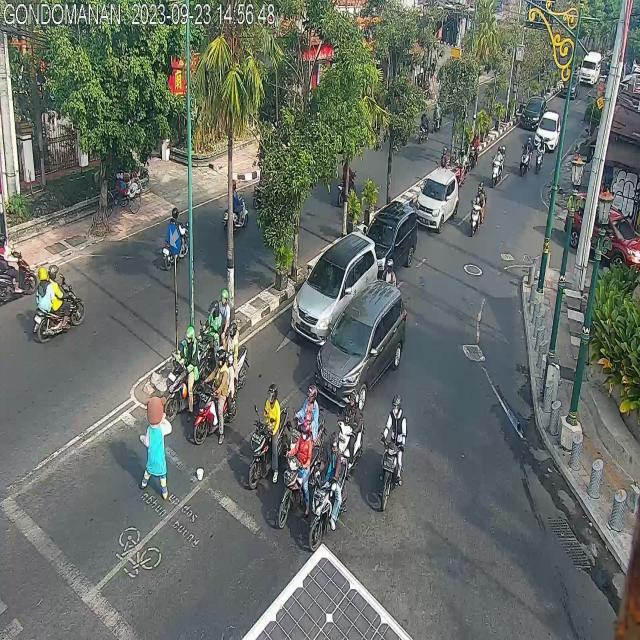car: (316, 276, 406, 407), (291, 232, 378, 345), (364, 199, 418, 270), (412, 170, 460, 233), (534, 110, 561, 152), (522, 96, 546, 124)
motorcycle: (311, 433, 349, 547), (280, 423, 320, 527), (248, 383, 288, 487), (379, 396, 410, 506), (196, 349, 232, 442), (166, 332, 200, 419), (333, 393, 364, 477), (198, 291, 226, 362), (162, 206, 188, 264), (222, 178, 248, 228), (338, 157, 357, 204), (471, 180, 484, 237), (491, 143, 507, 184), (521, 135, 532, 179), (534, 137, 545, 178), (470, 130, 480, 170)
